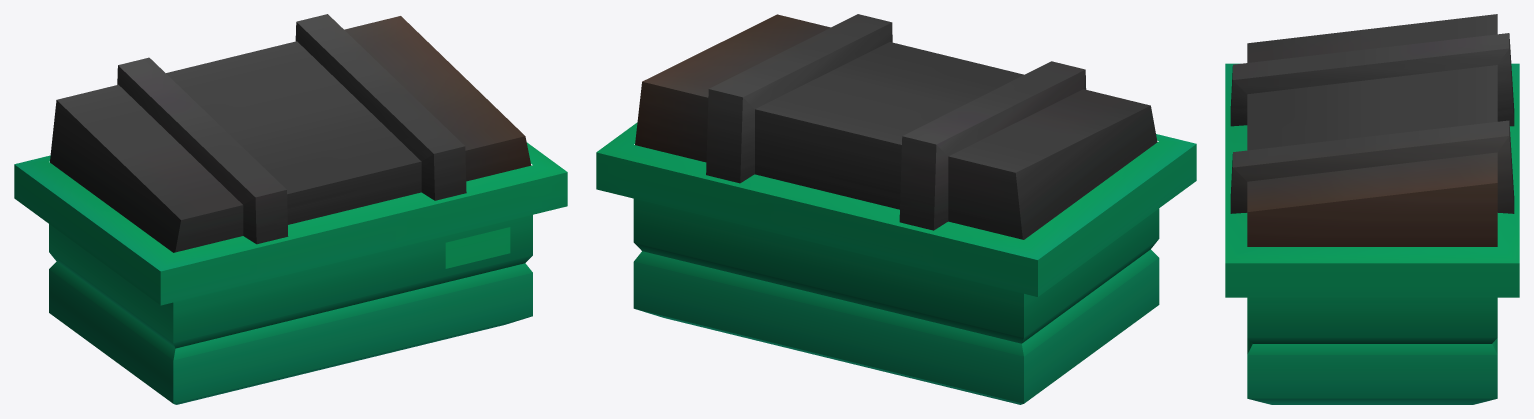
File: kay-cacamba.gltf
The picture shows the model from 3 angles, left to right: view 1: azimuth 30°, elevation 25°; view 2: azimuth 150°, elevation 25°; view 3: azimuth 270°, elevation 25°; orthographic projection. The views are drawn at different scales.
Visible parts, largest first — view 1: dumpster; view 2: dumpster; view 3: dumpster.
Boxes of the visible parts, x1,y1,x2,y2 form: dumpster: [14, 14, 567, 404]; dumpster: [596, 14, 1196, 404]; dumpster: [1225, 14, 1519, 404].
Bounding box in the file's own units: 2.83 × 1.59 × 1.76.
Materials: 1 (1 with a texture image).
